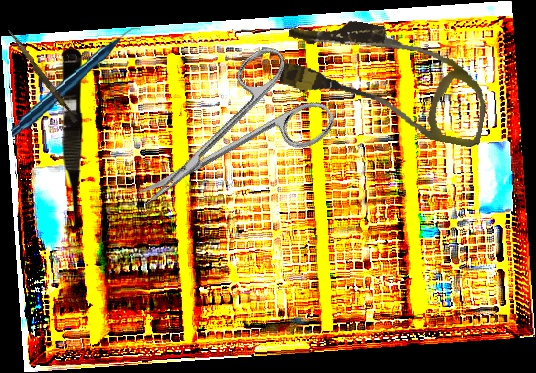Cannula: (274, 9, 498, 149)
Handpiece: (3, 27, 149, 138)
Iris Scissors: (108, 35, 341, 242)
Micro Scissor: (58, 47, 85, 236)
Pusher: (3, 28, 81, 124)
